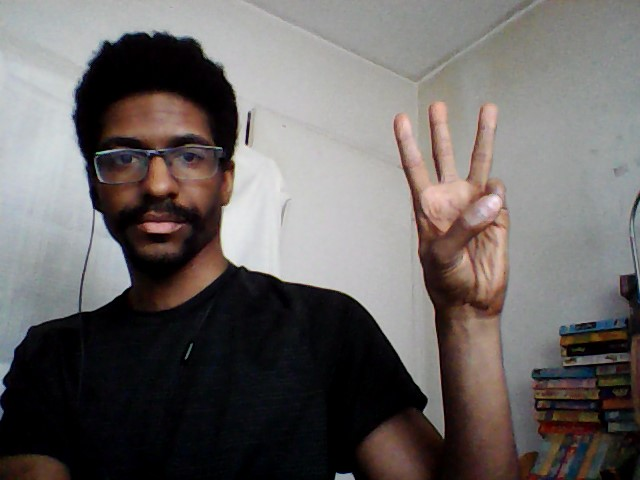w: (387, 94, 514, 316)
